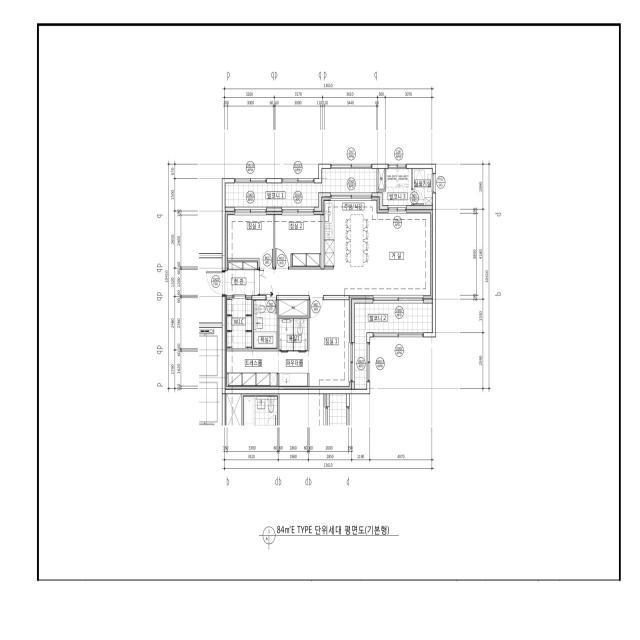space_balconi: (355, 303, 432, 389), (225, 169, 377, 207), (378, 169, 411, 205)
space_bedroom: (309, 300, 351, 389), (225, 211, 273, 267), (275, 212, 321, 267)
space_dressroom: (225, 351, 309, 389)
space_elevator: (199, 327, 222, 378), (199, 378, 222, 426)
space_elevator_hall: (199, 258, 222, 323)
space_front: (225, 261, 259, 295)
space_kitchen: (322, 197, 379, 269)
space_living_room: (259, 210, 432, 299)
space_other: (225, 298, 252, 349), (279, 300, 307, 316), (378, 169, 384, 189)
space_outdoor_room: (413, 169, 432, 205)
space_toilet: (253, 300, 277, 349), (279, 318, 293, 351), (294, 318, 307, 350)
